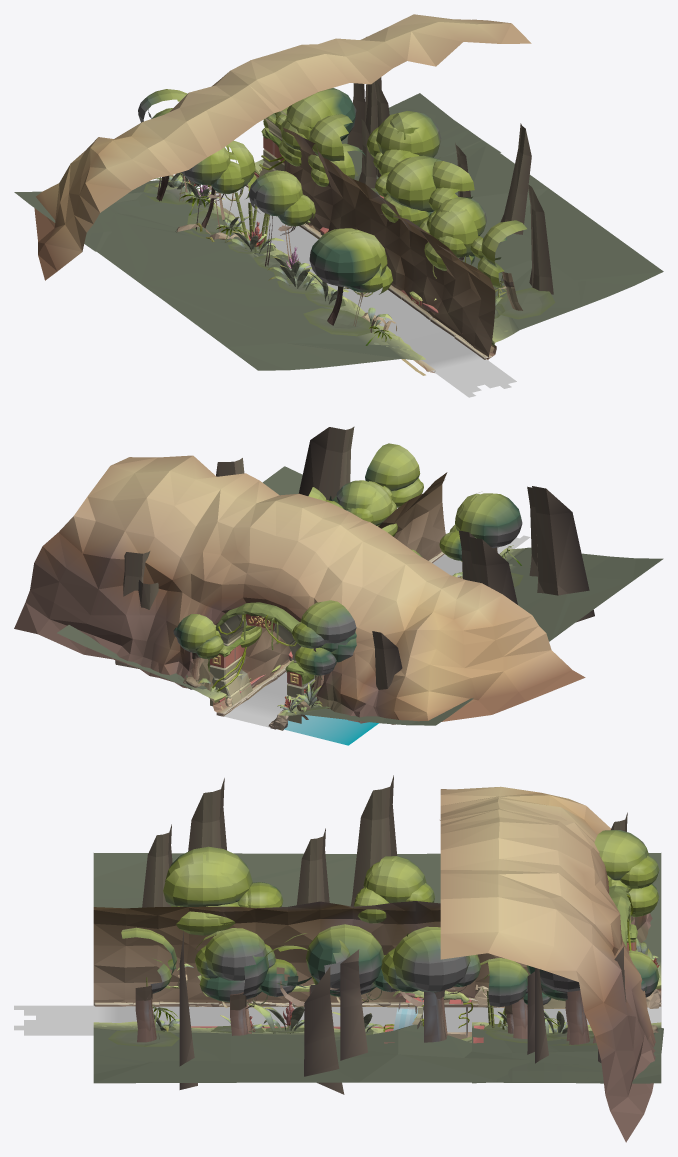
Rendered from Ben_Enviroments_Flattened.glb.
The picture shows the model from 3 angles, top to bottom: view 1: azimuth 30°, elevation 25°; view 2: azimuth 150°, elevation 25°; view 3: azimuth 270°, elevation 25°; orthographic projection. The views are drawn at different scales.
Parts seen in each view (by area): view 1: ben1_tunnel_MESH, Ben1_ArchiSet_02_30_MESH, Ben1_ArchiSet_01_30_MESH, Ben1_ArchiSet_02_10_MESH, ben1_RoadTunnel_MESH, Ben1_ArchiSet_01_10_MESH, shadows, shadows_2, shadows_1; view 2: ben1_tunnel_MESH, Ben1_ArchiSet_01_30_MESH, Ben1_ArchiSet_02_30_MESH, Ben1_ArchiSet_02_10_MESH, Ben1_ArchiSet_01_10_MESH, ben1_RoadTunnel_MESH; view 3: ben1_tunnel_MESH, Ben1_ArchiSet_02_30_MESH, Ben1_ArchiSet_01_30_MESH, Ben1_ArchiSet_02_10_MESH, ben1_RoadTunnel_MESH, Ben1_ArchiSet_01_10_MESH, shadows, shadows_2.
Boxes of the visible parts, bbox=[...] form: ben1_tunnel_MESH: bbox=[23, 14, 531, 371]; Ben1_ArchiSet_02_30_MESH: bbox=[15, 113, 662, 375]; Ben1_ArchiSet_01_30_MESH: bbox=[14, 88, 663, 372]; Ben1_ArchiSet_02_10_MESH: bbox=[17, 77, 496, 251]; ben1_RoadTunnel_MESH: bbox=[209, 186, 516, 397]; Ben1_ArchiSet_01_10_MESH: bbox=[175, 83, 500, 241]; shadows: bbox=[164, 168, 555, 336]; shadows_2: bbox=[184, 216, 373, 333]; shadows_1: bbox=[143, 180, 376, 234]; ben1_tunnel_MESH: bbox=[14, 455, 585, 729]; Ben1_ArchiSet_01_30_MESH: bbox=[57, 427, 663, 725]; Ben1_ArchiSet_02_30_MESH: bbox=[198, 426, 658, 730]; Ben1_ArchiSet_02_10_MESH: bbox=[102, 551, 473, 729]; Ben1_ArchiSet_01_10_MESH: bbox=[138, 580, 378, 745]; ben1_RoadTunnel_MESH: bbox=[222, 535, 530, 727]; ben1_tunnel_MESH: bbox=[93, 786, 661, 1142]; Ben1_ArchiSet_02_30_MESH: bbox=[93, 775, 661, 1089]; Ben1_ArchiSet_01_30_MESH: bbox=[93, 795, 661, 1094]; Ben1_ArchiSet_02_10_MESH: bbox=[472, 812, 661, 1083]; ben1_RoadTunnel_MESH: bbox=[14, 1005, 661, 1035]; Ben1_ArchiSet_01_10_MESH: bbox=[472, 950, 663, 1083]; shadows: bbox=[108, 984, 573, 1046]; shadows_2: bbox=[210, 990, 592, 1040].
Size of the model in its own units: 37.71 by 12.97 by 34.34.
